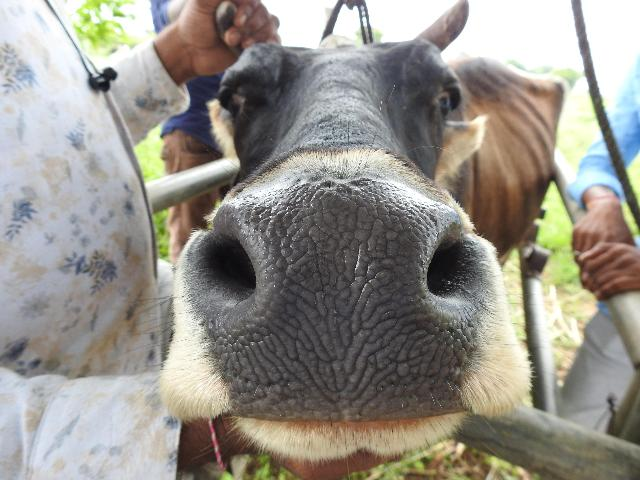Muzzle: (248, 191, 434, 405)
